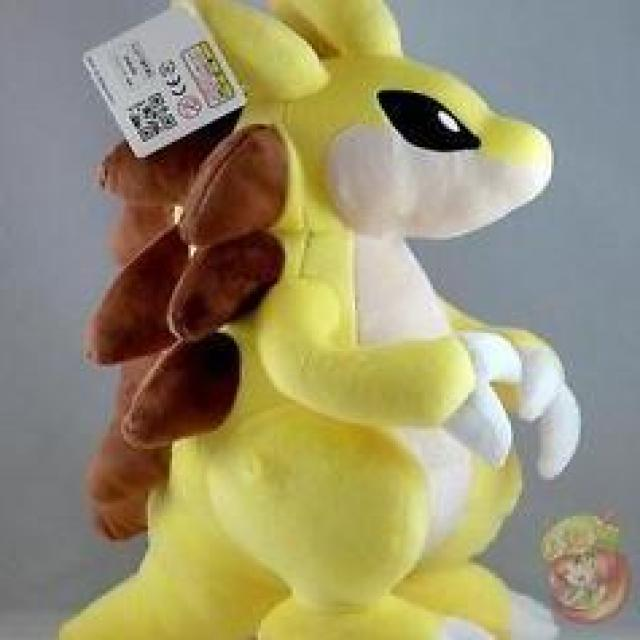Sandslash: (112, 0, 559, 640)
